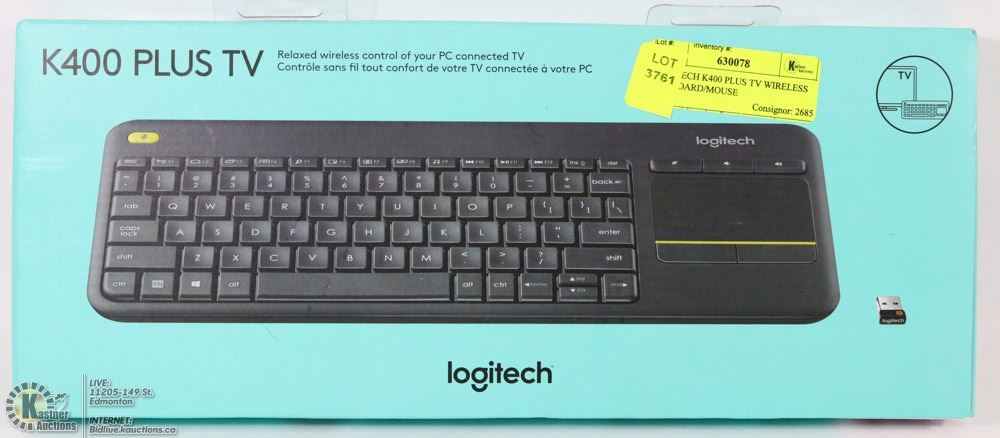logitech-keyboard-k400: (93, 120, 823, 328)
